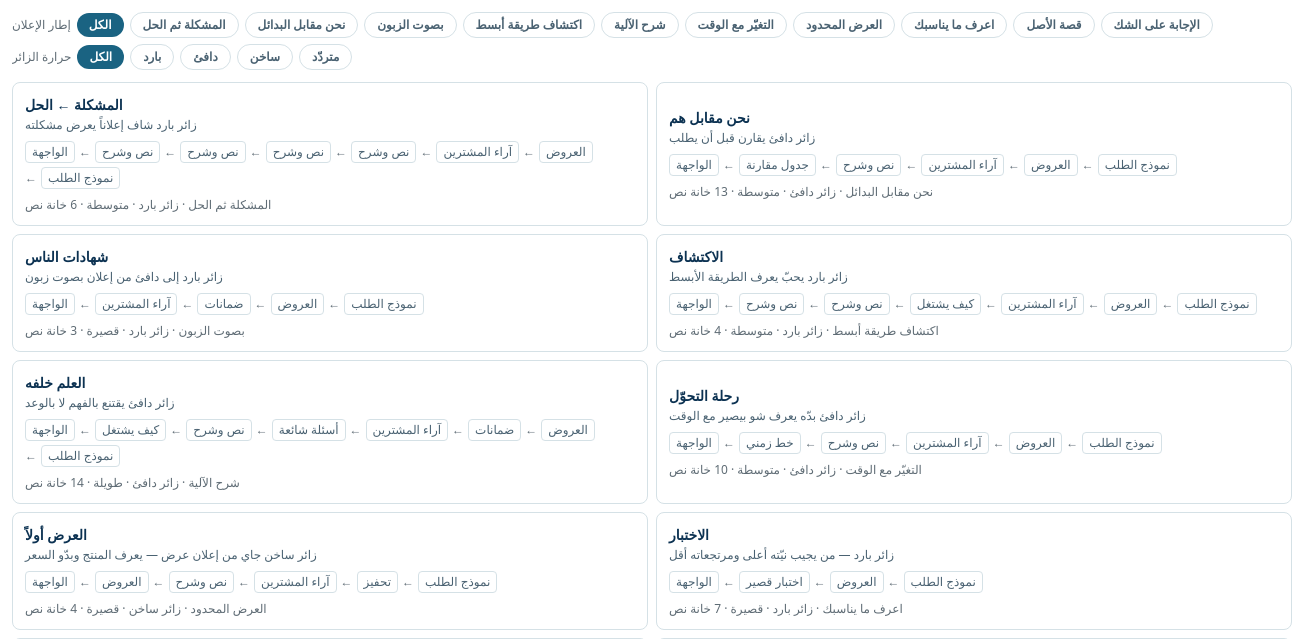
Scenario: the filters, which narrow and do nothing else › says so plainly when the two filters cross at nothing
Click the button "ساخن". click: {"x": 265, "y": 57}
box: [237,44,293,70]
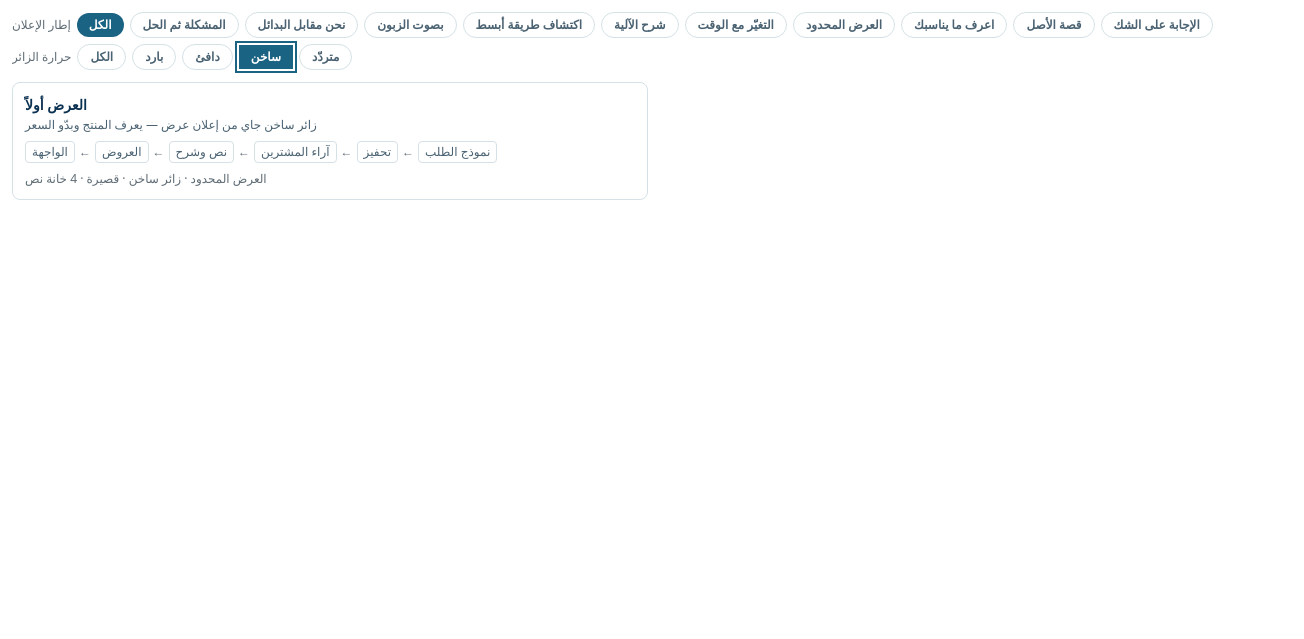
Click the button "قصة الأصل". click: {"x": 1054, "y": 25}
box: [1013,12,1095,38]
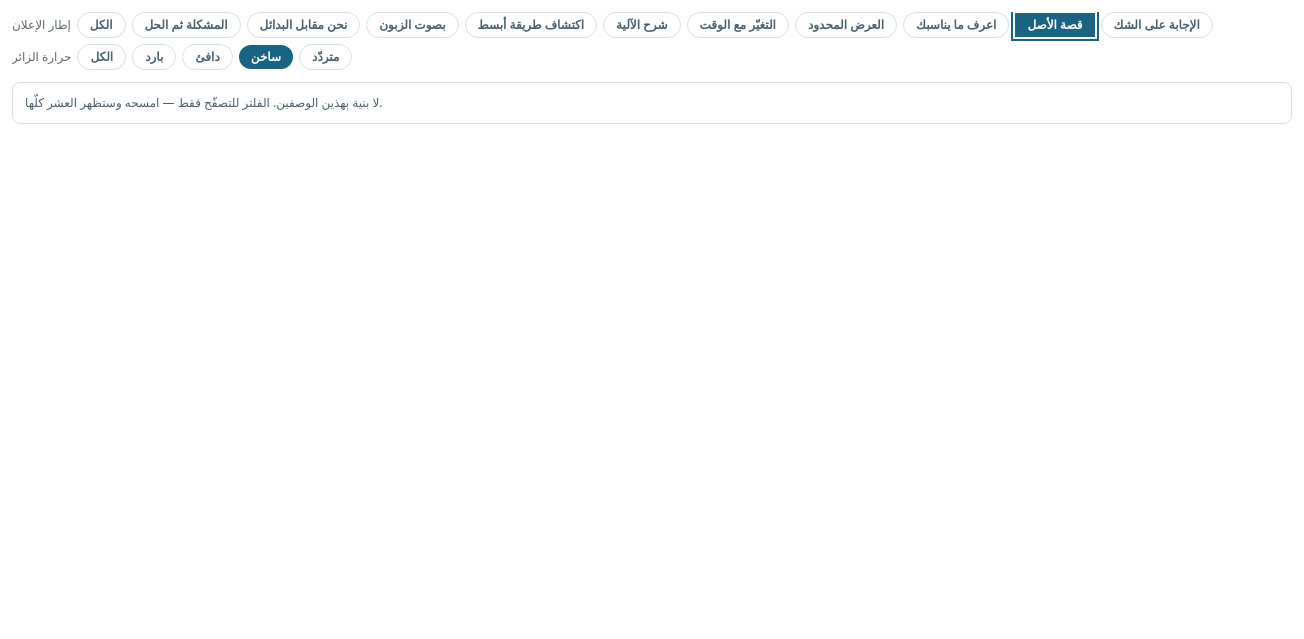
Expected: the text "الفلتر للتصفّح فقط" is shown, [25,94,382,111]
